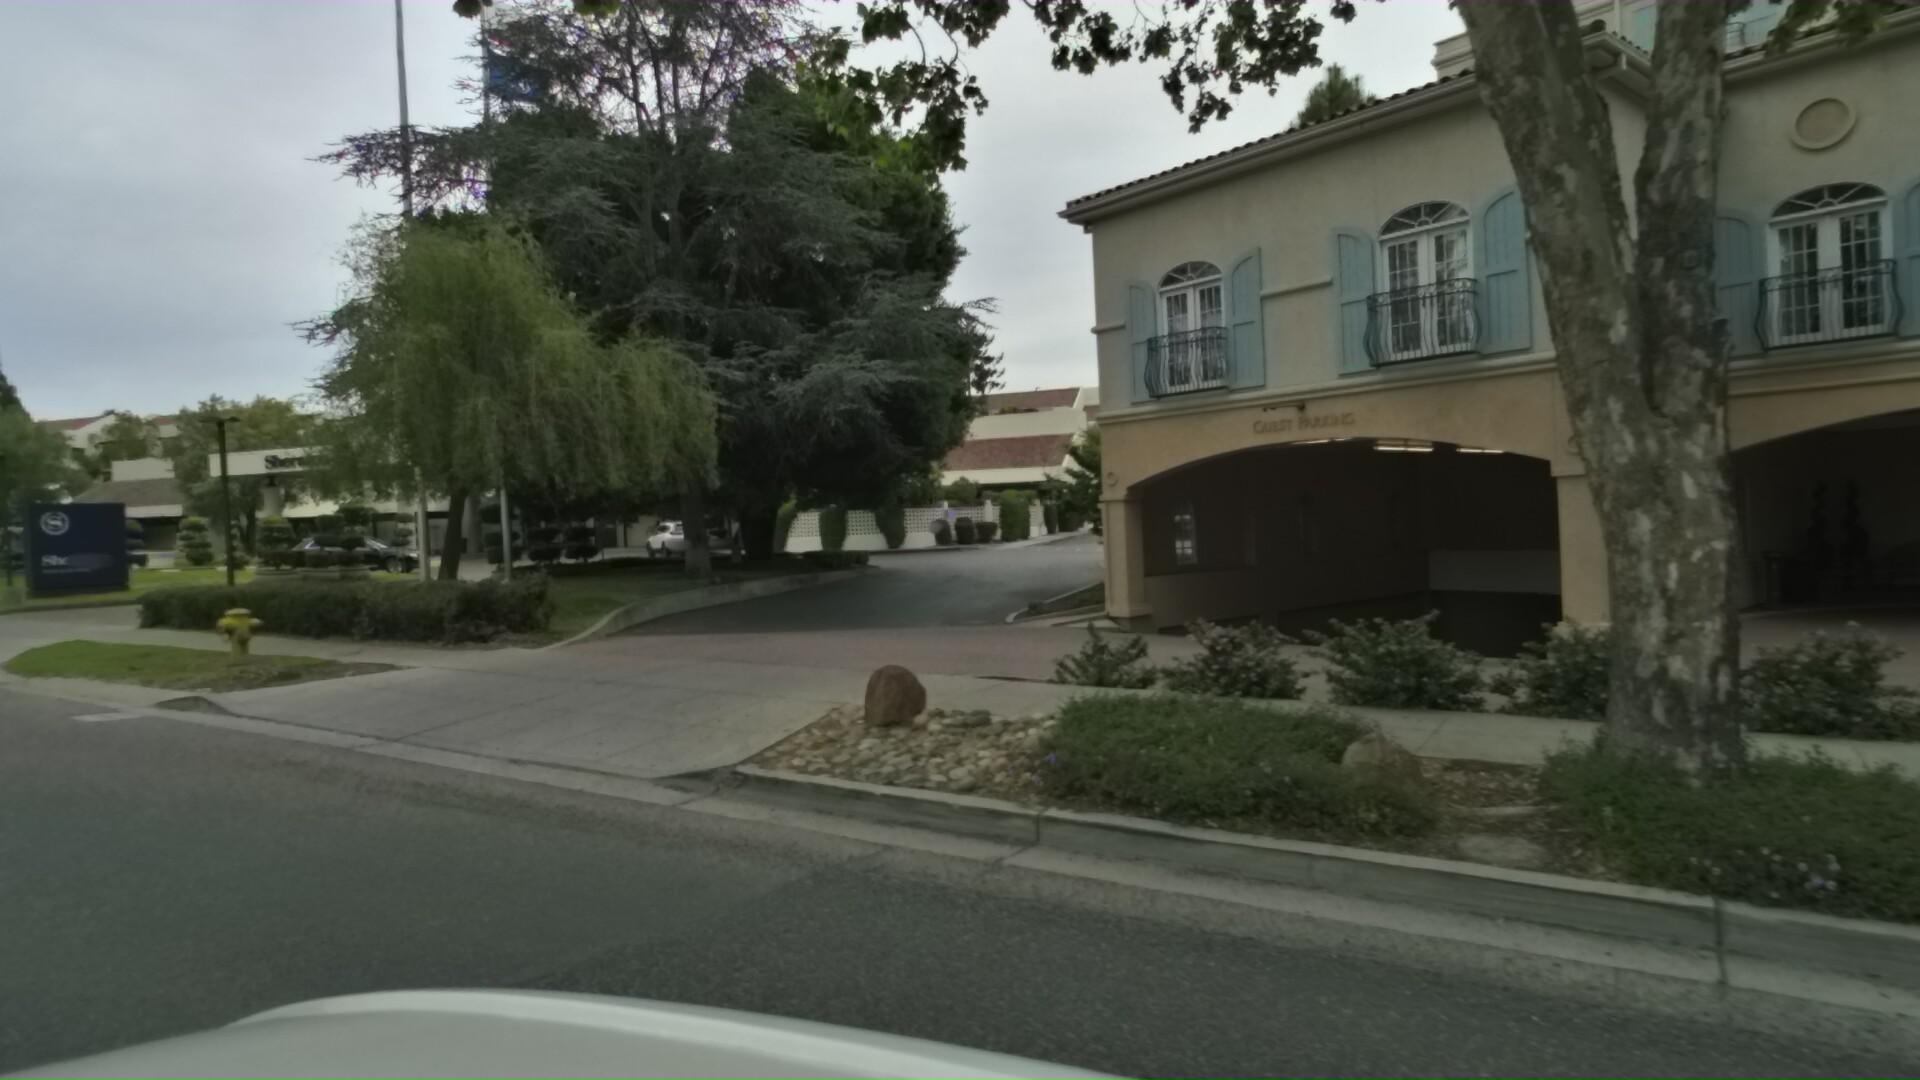car: (287, 522, 440, 571), (647, 508, 717, 551)
